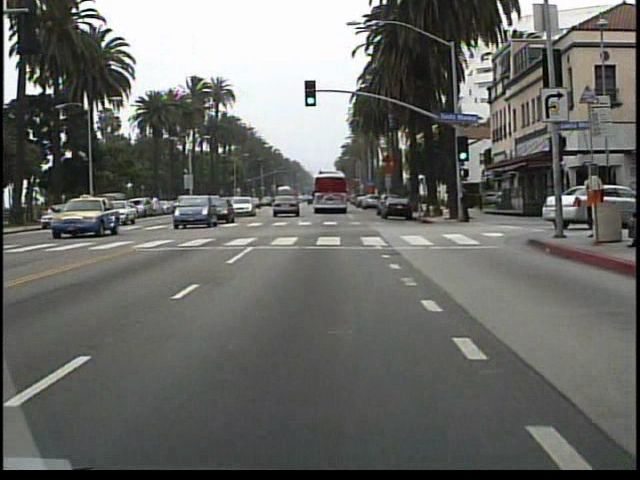person: (580, 166, 604, 234), (457, 182, 473, 227)
